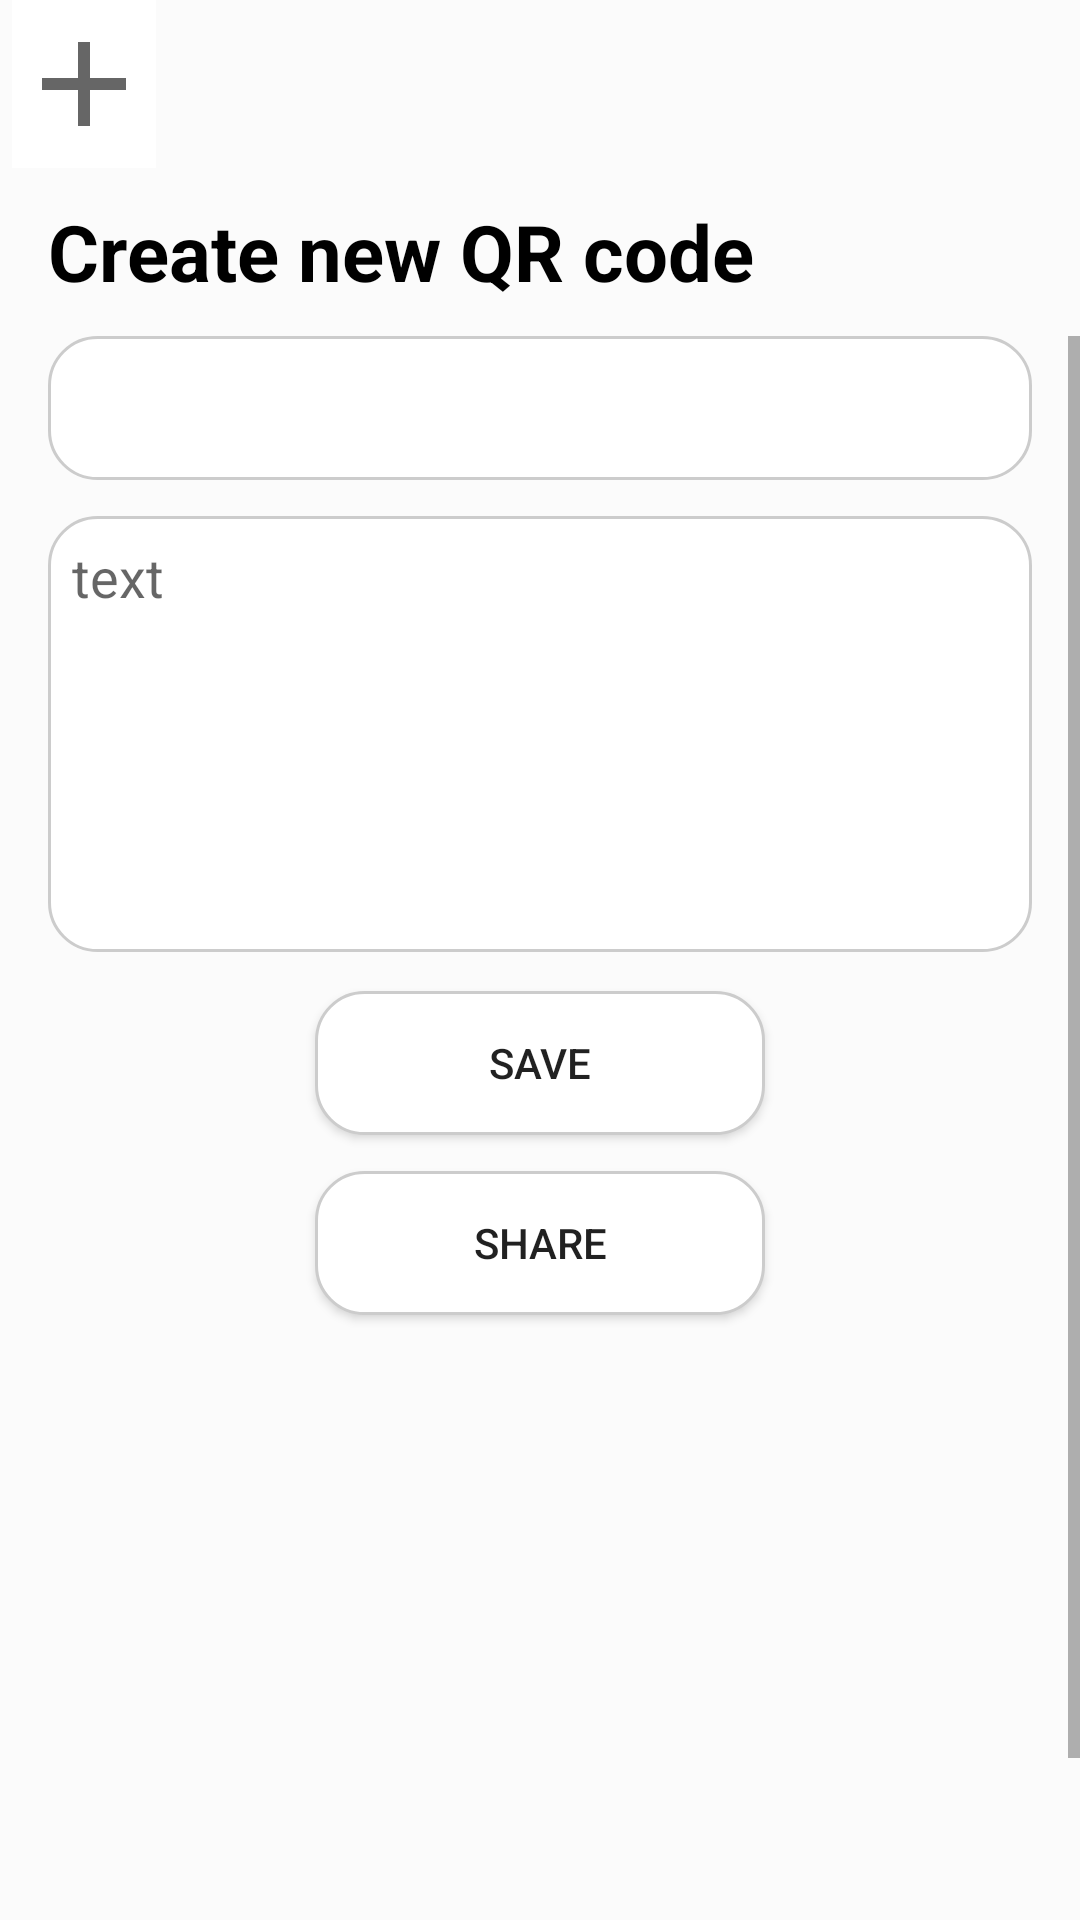

Icon bounding boxes for this 1080 × 1920 phone screenshot, format bbox=(x1, y1, x2, y2):
add: bbox=(42, 42, 126, 126)
